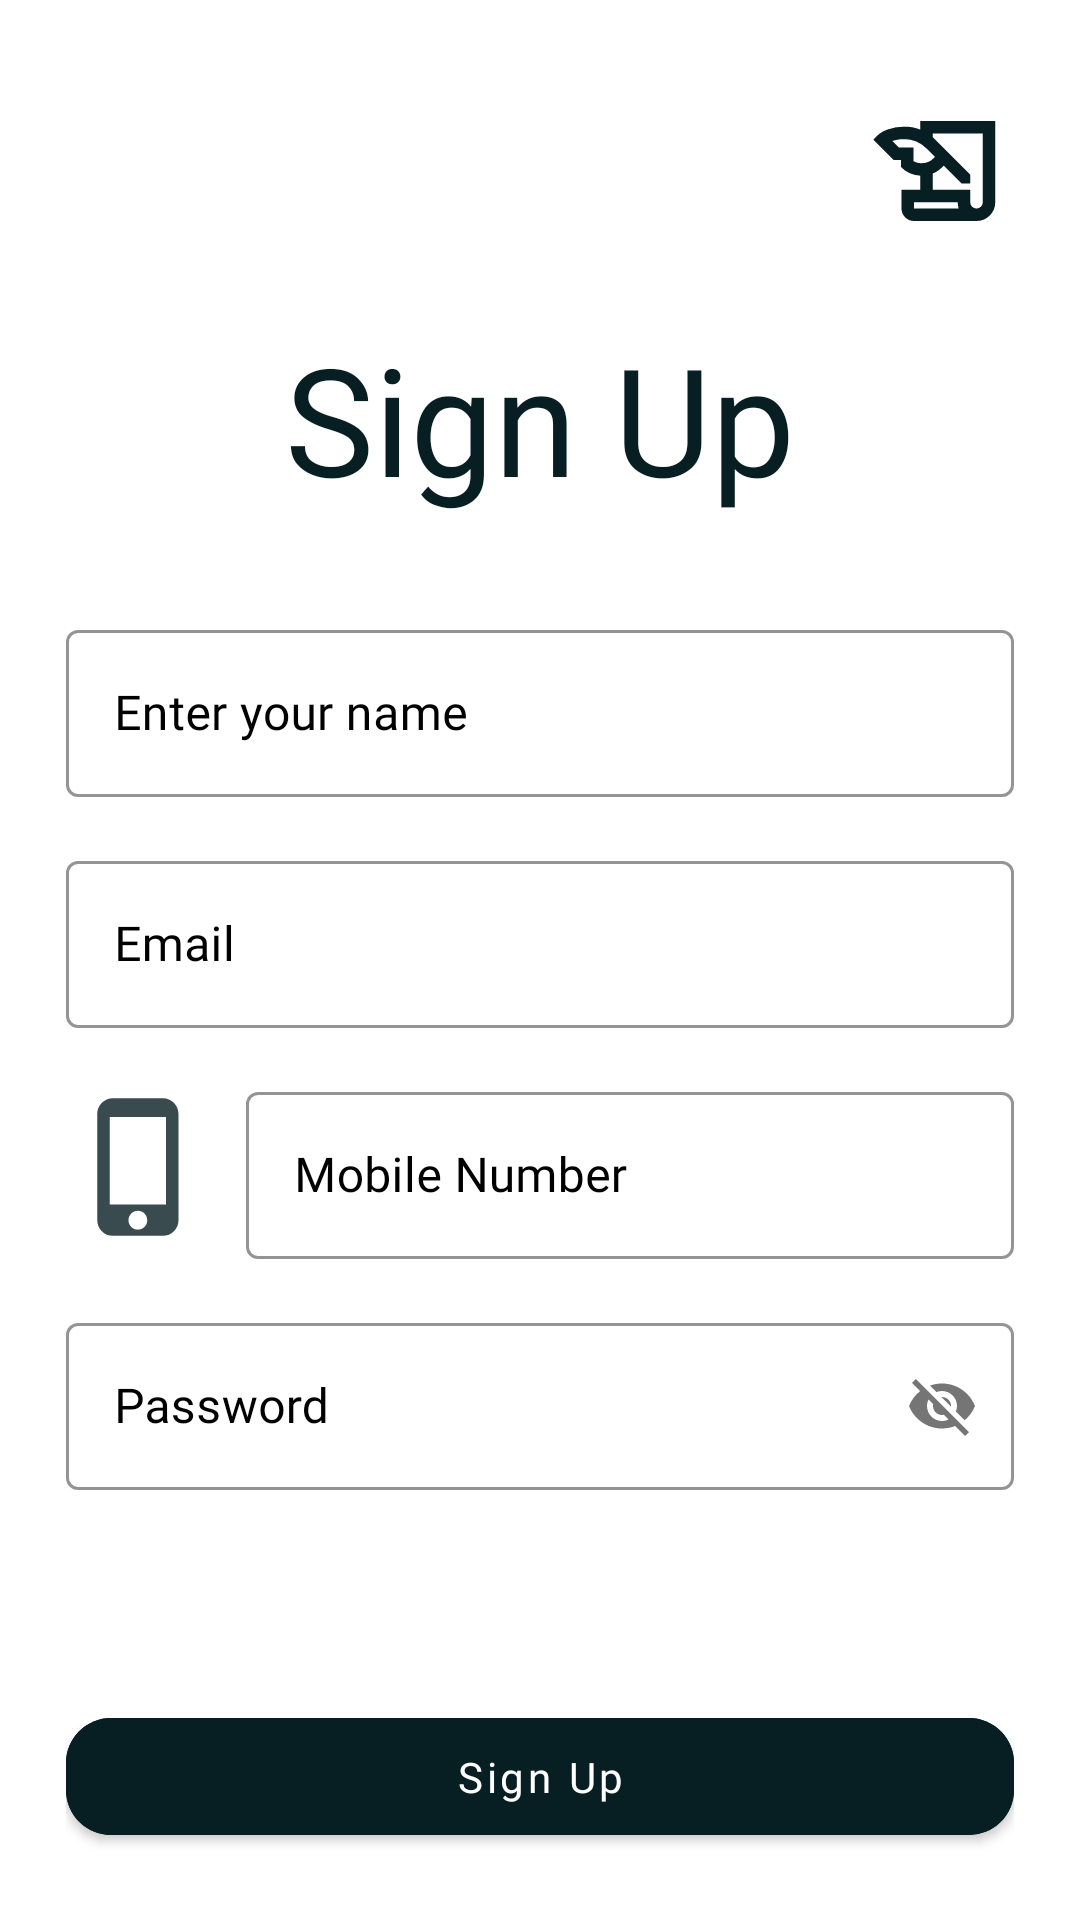

Point at icon controls on the screen. Image size 1080px x 1920px, points as (x,y).
phone: (138,1167)
